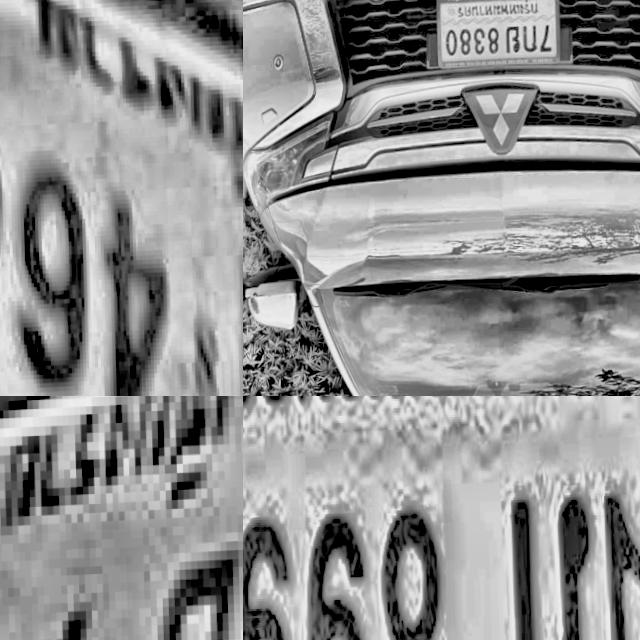license-plate: (243, 396, 640, 640), (0, 0, 243, 396), (0, 396, 243, 640), (431, 0, 561, 72)
